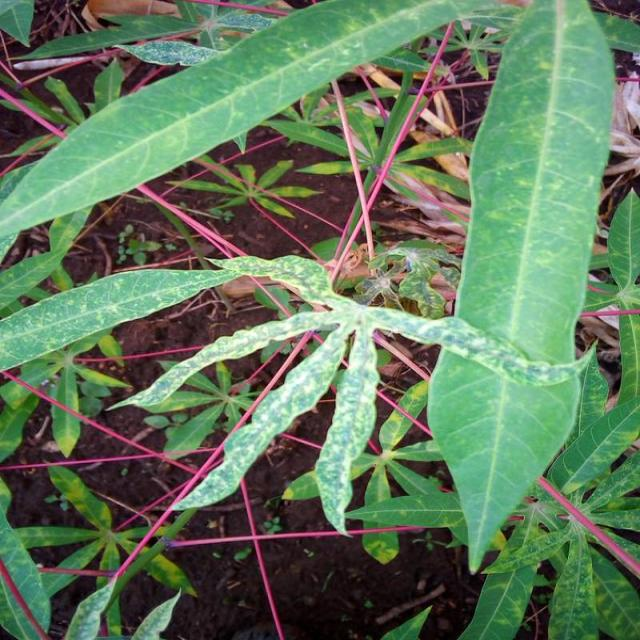cassava leaf: (0, 0, 513, 261), (425, 0, 616, 574)
